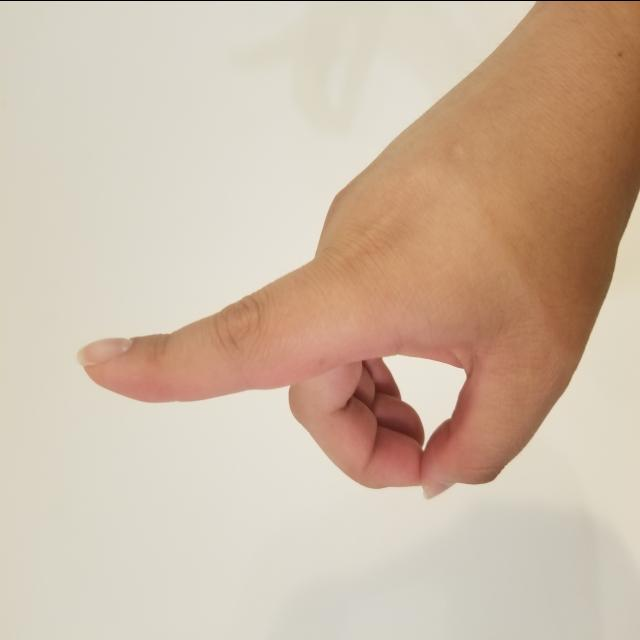D: (71, 27, 638, 508)
